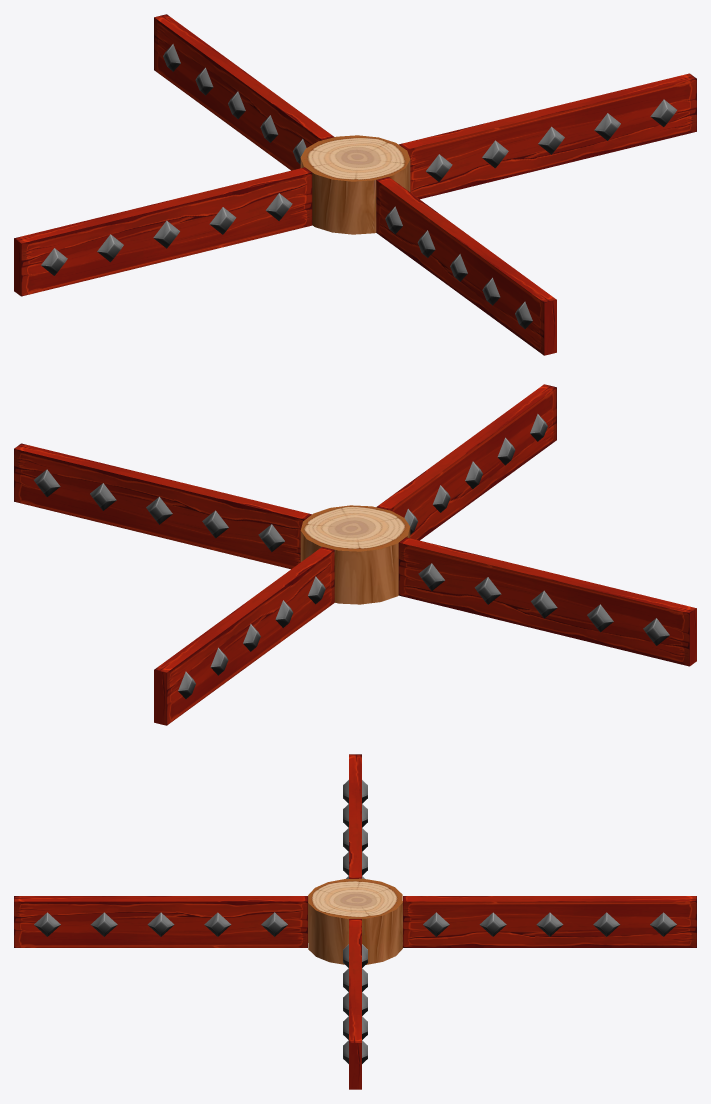
File: four_blade_red_03.fbx
3 renders of one model, top to bottom at view 1: azimuth 30°, elevation 25°; view 2: azimuth 150°, elevation 25°; view 3: azimuth 270°, elevation 25°, orthographic. The views are drawn at different scales.
Visible parts, largest first — view 1: four_blade_red_03; view 2: four_blade_red_03; view 3: four_blade_red_03.
Part boxes in pixels (left/top/right/bottom): four_blade_red_03: left=14, top=14, right=696, bottom=355; four_blade_red_03: left=14, top=384, right=696, bottom=725; four_blade_red_03: left=14, top=754, right=696, bottom=1089.
Size of the model in its own units: 534 by 40 by 534.
